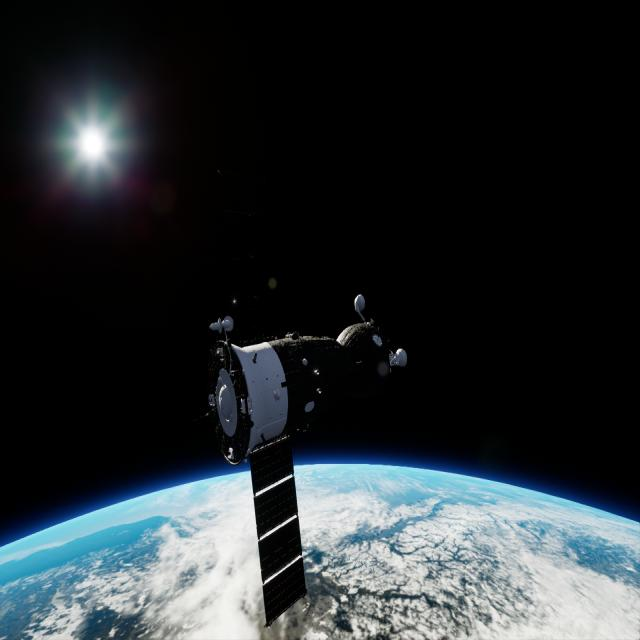Satellites revolving around earth: (203, 290, 409, 629)
